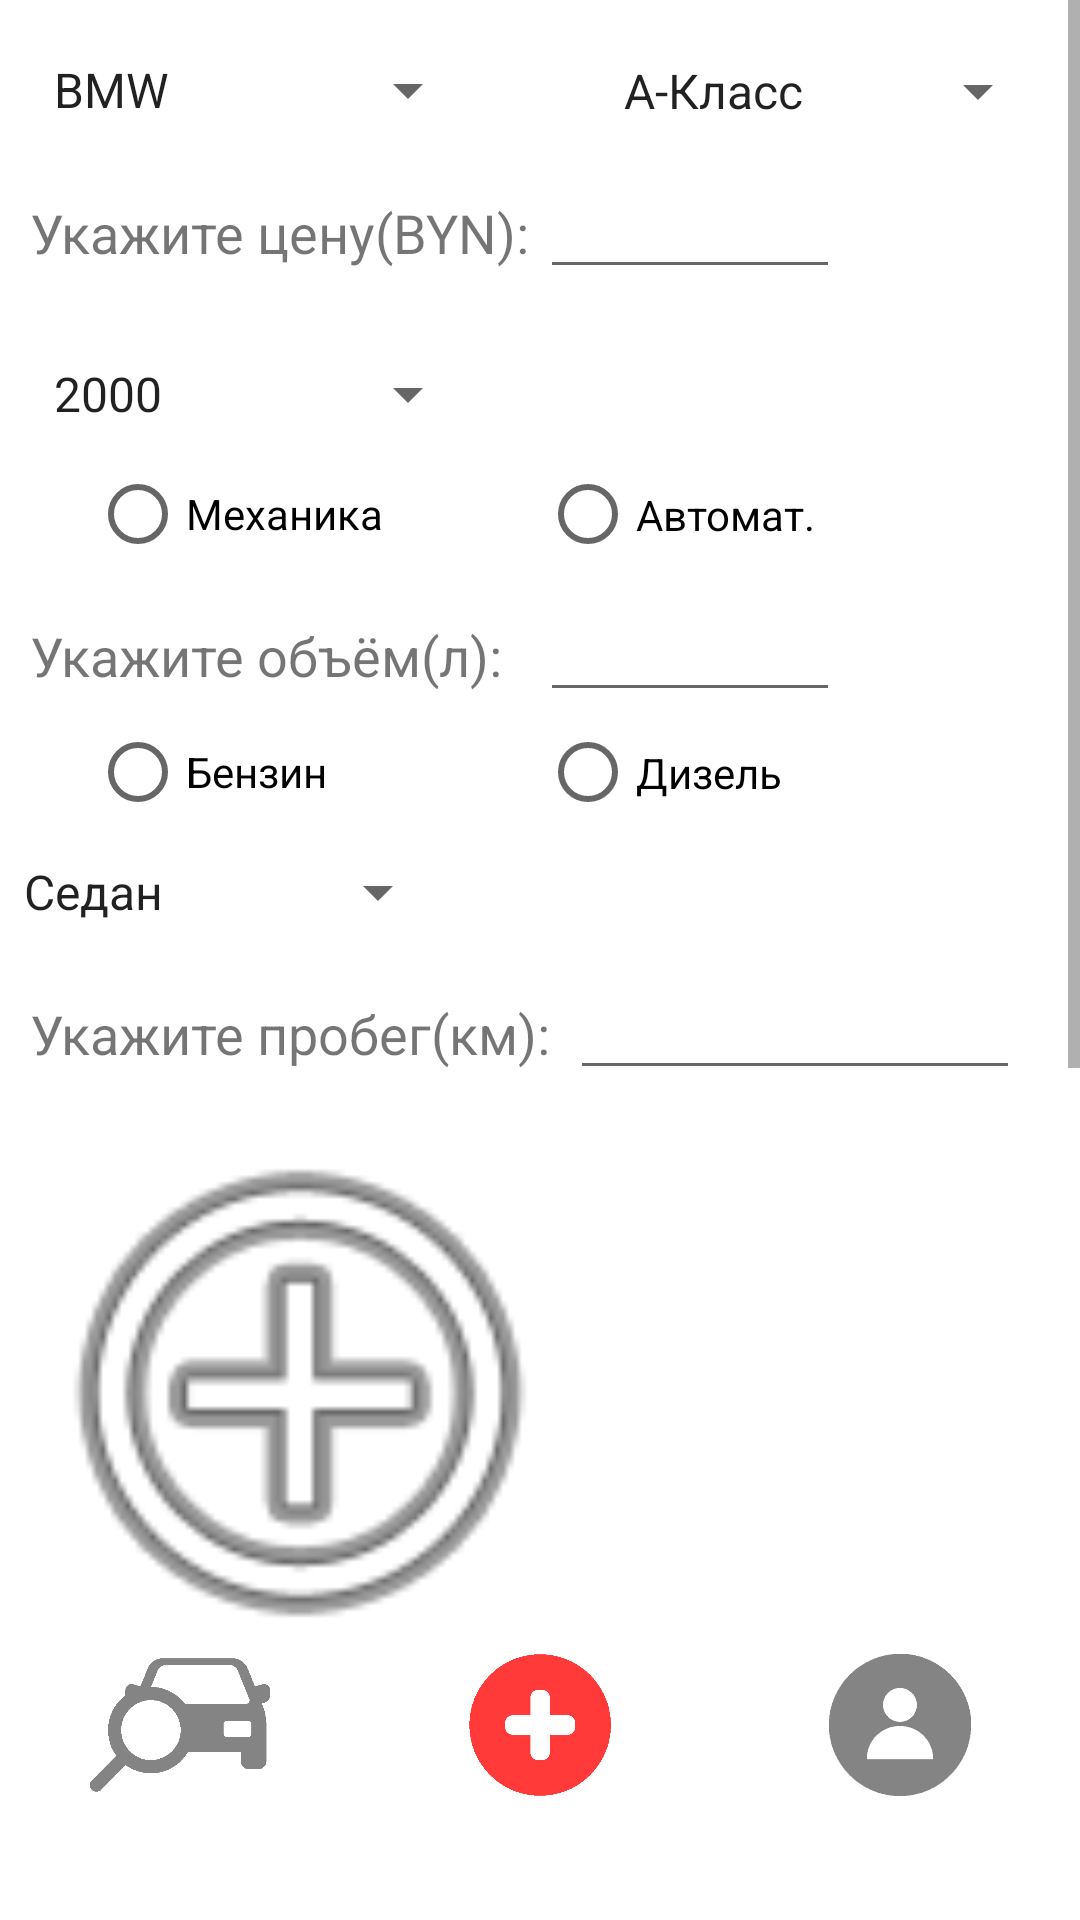

Screen size 1080w x 1920h. Icon name, then its box in pixels as (x1, y1, x2, y2):
addcarimgactive: (469, 1654, 611, 1796)
